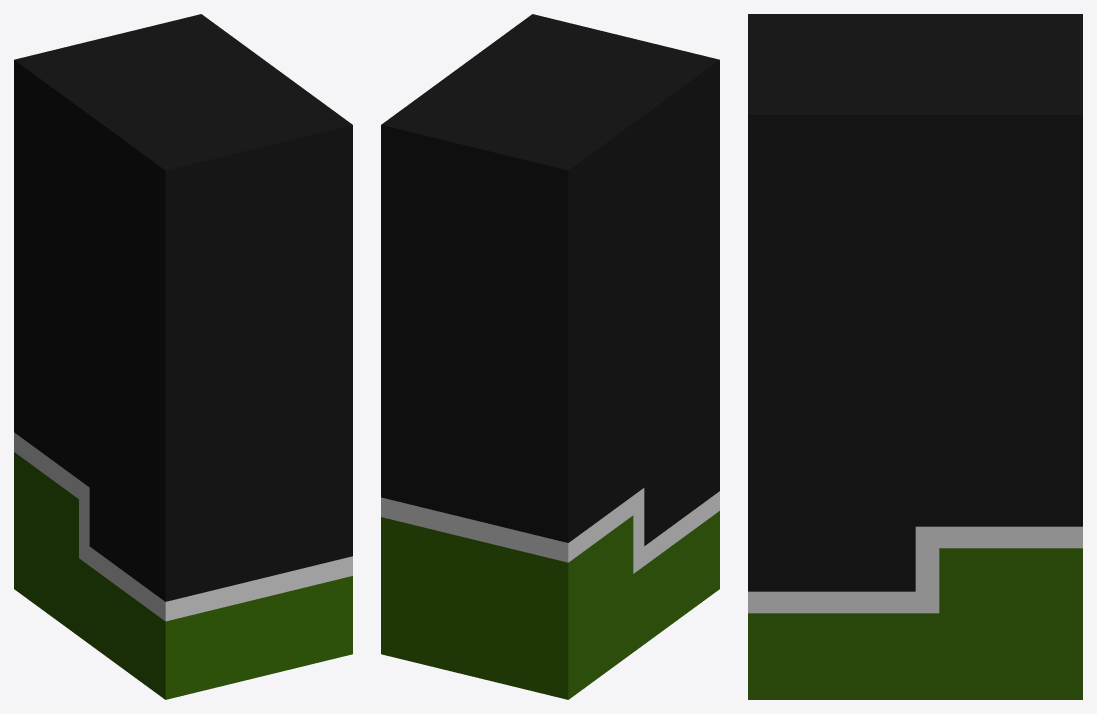
File: pata izquida.obj
3 views of the same model, side by side, from view 1: azimuth 30°, elevation 25°; view 2: azimuth 150°, elevation 25°; view 3: azimuth 270°, elevation 25° (orthographic). The views are drawn at different scales.
Size of the model in its own units: 1 by 2.7 by 1.4.
Materials: 1 (1 with a texture image).
